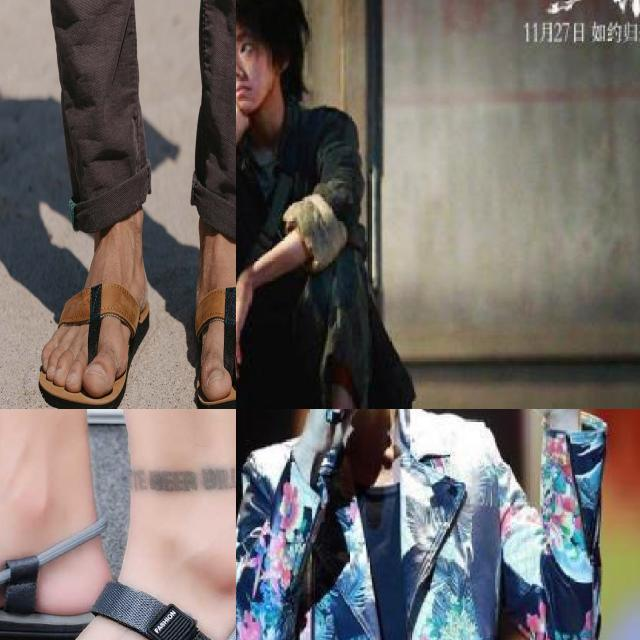Sandals: (0, 526, 236, 640), (0, 488, 111, 640), (193, 214, 236, 407)
face_nomask: (236, 29, 285, 103)
hand_noglove: (306, 409, 380, 454), (236, 274, 252, 388), (236, 79, 248, 135)
head_nohelmet: (236, 0, 295, 33)
person: (236, 409, 607, 640), (236, 0, 398, 409)
